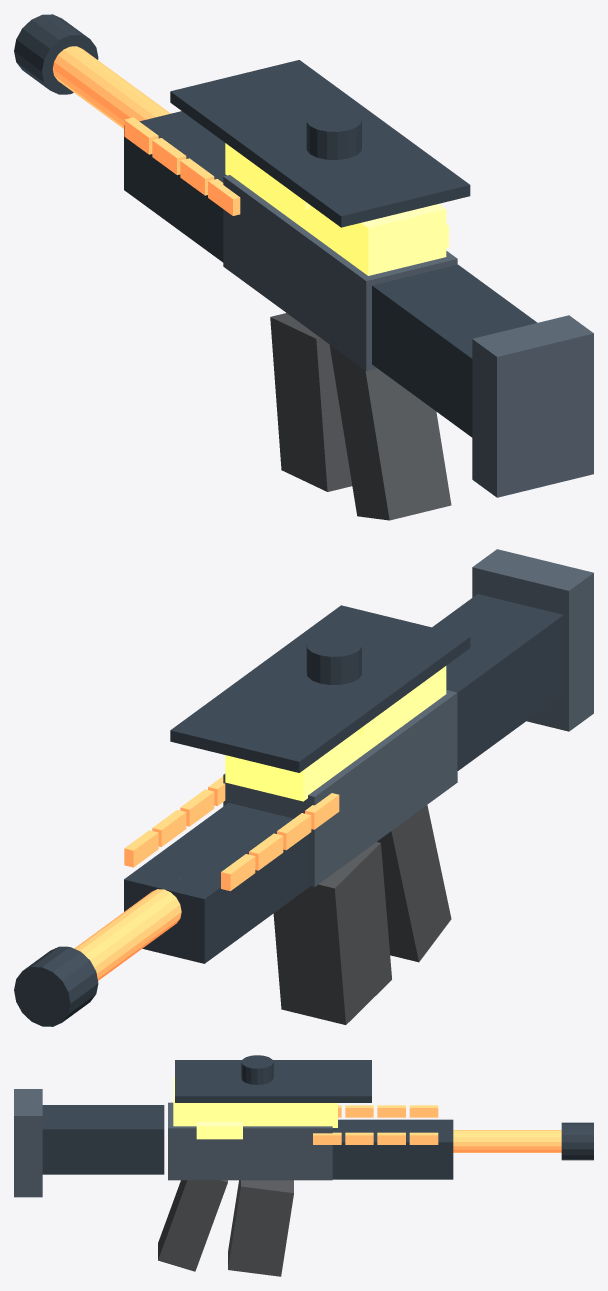
File: vector_rifle_mk2.glb
3 renders of one model, top to bottom at view 1: azimuth 30°, elevation 25°; view 2: azimuth 150°, elevation 25°; view 3: azimuth 270°, elevation 25°, orthographic. The views are drawn at different scales.
Visible parts, largest first — view 1: topRail, stockPad, receiver, stockBeam, pistolGrip, magazine, energySpine, handguard, barrel, muzzleBrake, opticBody, heatVentMirror_0 (+3 smaller); view 2: topRail, handguard, receiver, magazine, stockBeam, stockPad, pistolGrip, energySpine, muzzleBrake, barrel, opticBody, heatVent_3 (+6 smaller); view 3: stockBeam, receiver, topRail, handguard, magazine, pistolGrip, energySpine, stockPad, barrel, muzzleBrake, opticBody, bolt (+7 smaller).
Part boxes in pixels (bbox=[...]): topRail: bbox=[170, 60, 470, 227]; stockPad: bbox=[472, 315, 593, 497]; receiver: bbox=[223, 175, 457, 371]; stockBeam: bbox=[372, 264, 537, 437]; pistolGrip: bbox=[329, 345, 451, 520]; magazine: bbox=[270, 313, 352, 491]; energySpine: bbox=[225, 143, 446, 275]; handguard: bbox=[124, 111, 226, 262]; barrel: bbox=[52, 46, 170, 128]; muzzleBrake: bbox=[14, 14, 98, 94]; opticBody: bbox=[306, 108, 361, 159]; heatVentMirror_0: bbox=[208, 179, 240, 215]; topRail: bbox=[170, 605, 470, 772]; handguard: bbox=[124, 803, 310, 963]; receiver: bbox=[223, 689, 457, 886]; magazine: bbox=[273, 842, 391, 1024]; stockBeam: bbox=[432, 594, 563, 770]; stockPad: bbox=[472, 549, 593, 731]; pistolGrip: bbox=[377, 805, 451, 962]; energySpine: bbox=[225, 666, 446, 801]; muzzleBrake: bbox=[14, 946, 98, 1026]; barrel: bbox=[74, 889, 181, 980]; opticBody: bbox=[306, 633, 361, 684]; heatVent_3: bbox=[124, 830, 158, 867]; stockBeam: bbox=[42, 1105, 164, 1174]; receiver: bbox=[168, 1102, 332, 1180]; topRail: bbox=[175, 1060, 371, 1102]; handguard: bbox=[332, 1119, 453, 1179]; magazine: bbox=[228, 1180, 293, 1276]; pistolGrip: bbox=[158, 1180, 227, 1271]; energySpine: bbox=[173, 1077, 337, 1127]; stockPad: bbox=[14, 1089, 42, 1197]; barrel: bbox=[453, 1130, 561, 1152]; muzzleBrake: bbox=[561, 1122, 593, 1160]; opticBody: bbox=[241, 1055, 273, 1084]; bolt: bbox=[196, 1122, 242, 1139].
Size of the model in its own units: 0.48 by 1.27 by 3.24.
